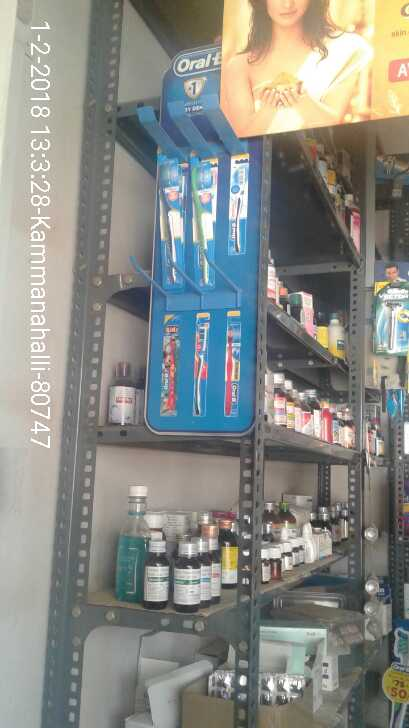oralb: (189, 155, 225, 283), (155, 156, 183, 290)
